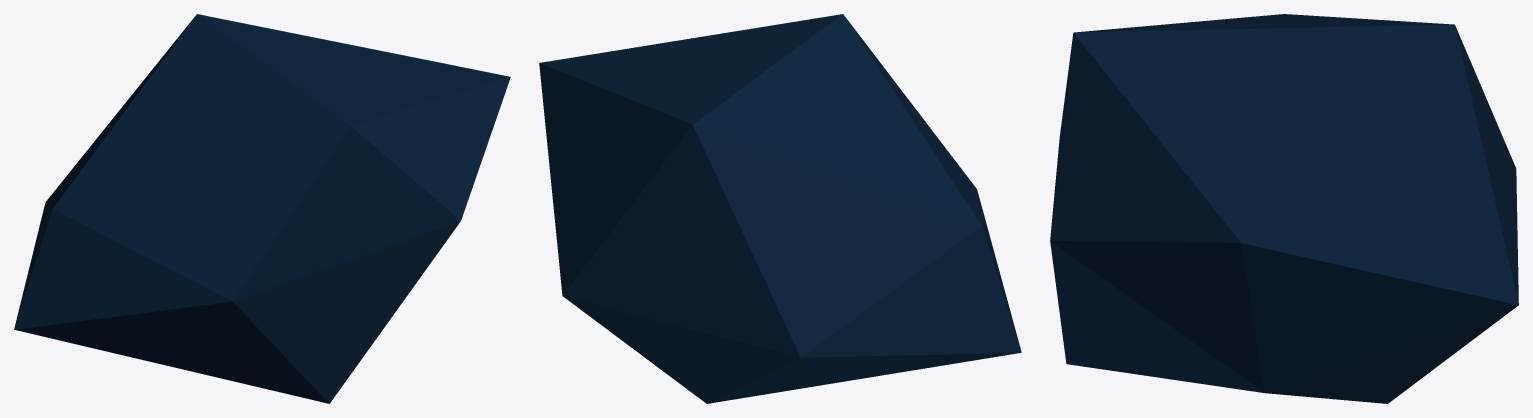
Rendered from rock.glb.
The picture shows the model from 3 angles, left to right: view 1: azimuth 30°, elevation 25°; view 2: azimuth 150°, elevation 25°; view 3: azimuth 270°, elevation 25°; orthographic projection. The views are drawn at different scales.
Parts seen in each view (by area): view 1: Rock; view 2: Rock; view 3: Rock.
Boxes of the visible parts, x1,y1,x2,y2 form: Rock: (14, 14, 510, 403); Rock: (539, 14, 1021, 403); Rock: (1050, 14, 1518, 403).
Bounding box in the file's own units: 1.13 × 0.6518 × 0.7452.
